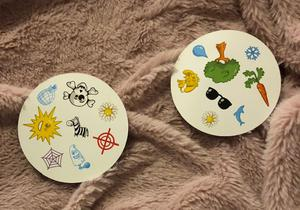arbre: (202, 38, 241, 85)
carotte: (242, 64, 273, 109)
chien: (173, 67, 201, 93)
cible: (93, 126, 120, 155)
dauphin: (232, 103, 249, 126)
fantome: (66, 141, 94, 172)
fleur: (95, 100, 120, 123), (198, 109, 221, 128)
flocon: (241, 45, 262, 61)
goutte: (189, 44, 212, 60)
igloo: (34, 82, 63, 106)
lunette: (203, 86, 231, 110)
soleil: (22, 107, 64, 143)
tete_mort: (63, 79, 97, 107)
toile: (40, 147, 66, 171)
zebre: (63, 113, 91, 142)
